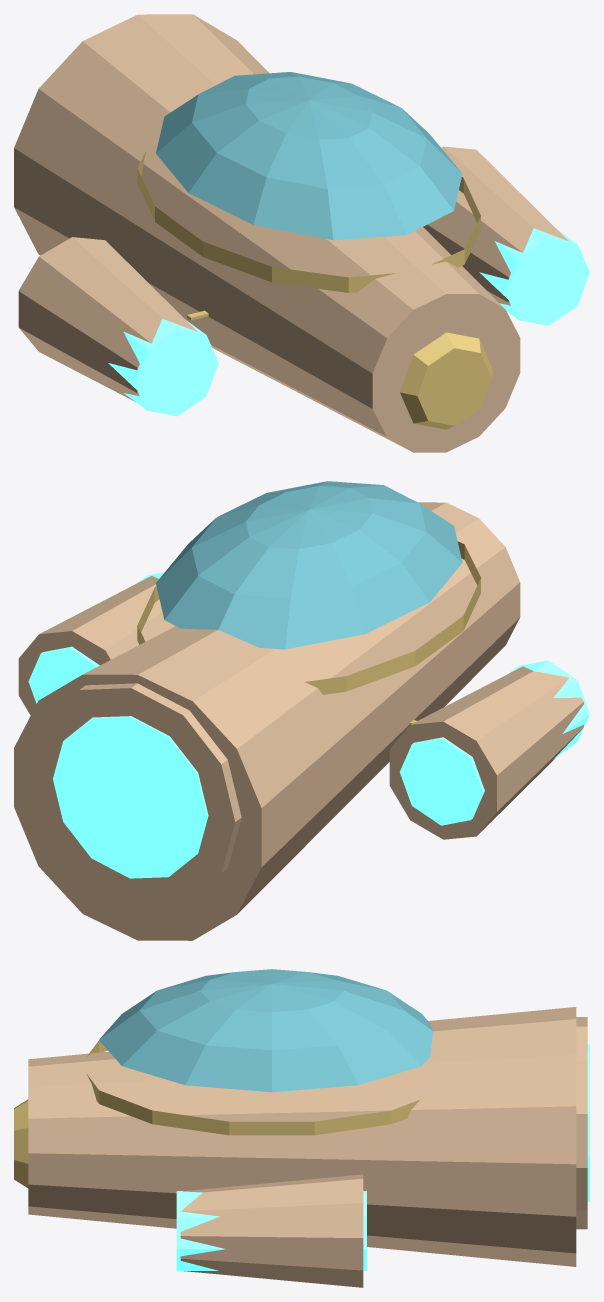
File: hoverbike.glb
The picture shows the model from 3 angles, top to bottom: view 1: azimuth 30°, elevation 25°; view 2: azimuth 150°, elevation 25°; view 3: azimuth 270°, elevation 25°; orthographic projection. The views are drawn at different scales.
Visible parts, largest first — view 1: HoverbikeCapsule, CanopyBubble, ThrusterPod, ThrusterPod.001, FrontIntake, GlowCore, GlowCore.001, CanopyRimFrame; view 2: HoverbikeCapsule, CanopyBubble, RearGlowCore, RearAntiGravRing, ThrusterPod, GlowCore, ThrusterPod.001, CanopyRimFrame, GlowCore.001; view 3: HoverbikeCapsule, CanopyBubble, ThrusterPod.001, CanopyRimFrame, RearAntiGravRing, GlowCore.001, FrontIntake, RearGlowCore.
Boxes of the visible parts, box(x1,y1,x2,y2) form: HoverbikeCapsule: box(14, 14, 520, 452); CanopyBubble: box(156, 72, 462, 240); ThrusterPod: box(18, 237, 197, 401); ThrusterPod.001: box(423, 146, 568, 305); FrontIntake: box(400, 332, 492, 429); GlowCore: box(108, 318, 218, 416); GlowCore.001: box(479, 228, 589, 325); CanopyRimFrame: box(137, 151, 480, 292); HoverbikeCapsule: box(14, 502, 520, 940); CanopyBubble: box(156, 481, 462, 649); RearGlowCore: box(53, 716, 208, 878); RearAntiGravRing: box(27, 683, 241, 905); ThrusterPod: box(389, 666, 583, 839); GlowCore: box(399, 660, 589, 825); ThrusterPod.001: box(18, 576, 175, 715); CanopyRimFrame: box(137, 541, 480, 694); GlowCore.001: box(28, 572, 164, 703); HoverbikeCapsule: box(28, 1007, 576, 1266); CanopyBubble: box(99, 969, 433, 1092); ThrusterPod.001: box(180, 1174, 363, 1287); CanopyRimFrame: box(86, 1041, 420, 1135); RearAntiGravRing: box(576, 1017, 587, 1229); GlowCore.001: box(176, 1191, 366, 1270); FrontIntake: box(14, 1099, 28, 1187); RearGlowCore: box(587, 1044, 589, 1201).
Size of the model in its own units: 3.22 by 1.97 by 3.79.
